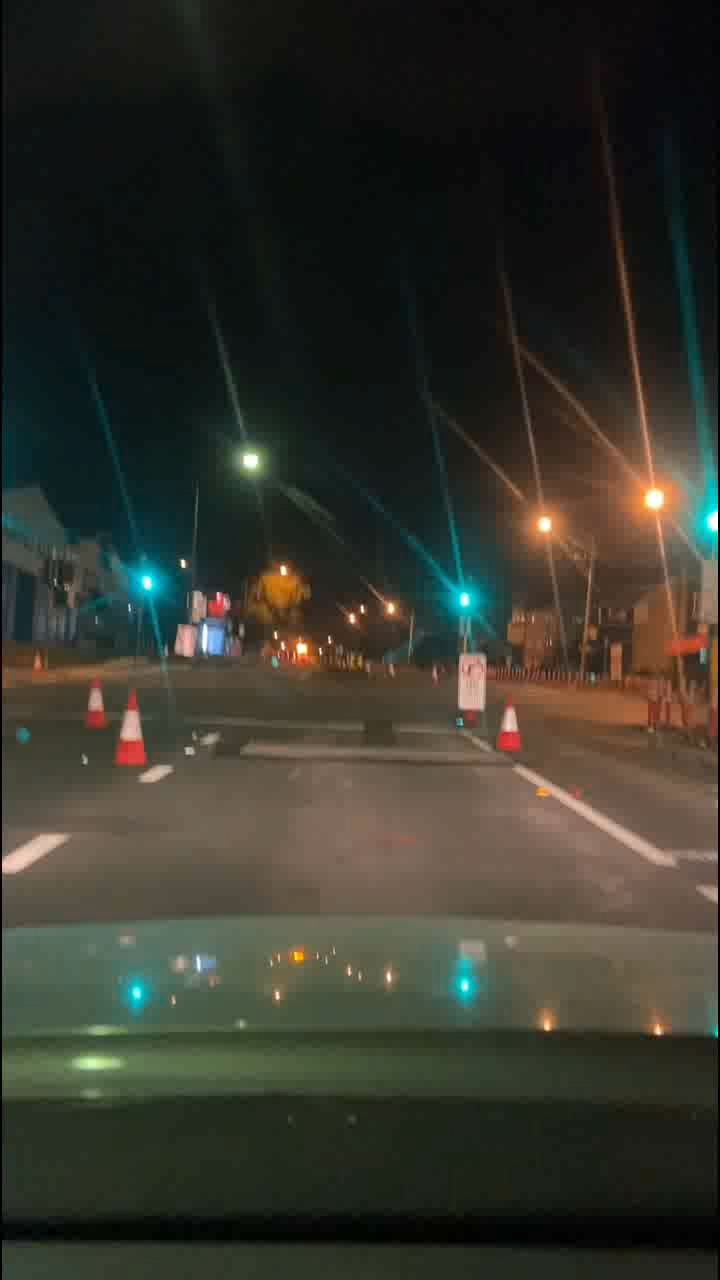road cone: (109, 681, 152, 767), (75, 657, 104, 730), (497, 685, 526, 754)
